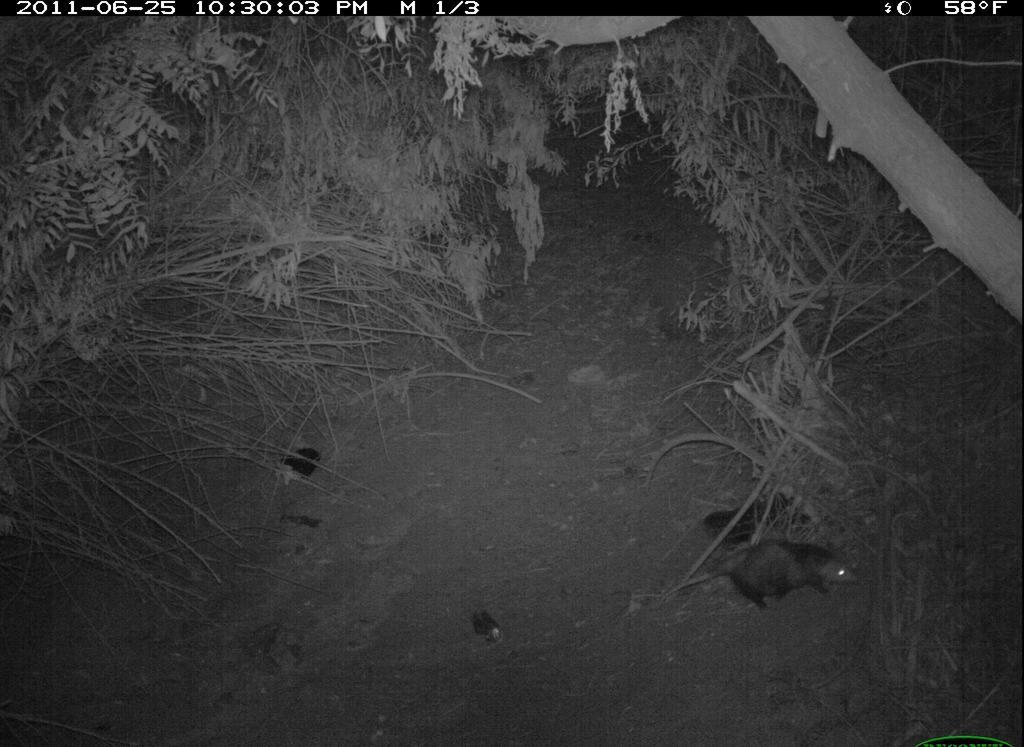opossum: (669, 527, 861, 624)
